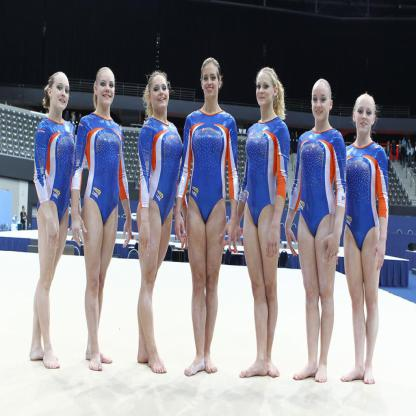face: (97, 75, 116, 106), (313, 87, 330, 121), (356, 102, 374, 134), (151, 80, 170, 108), (53, 78, 70, 109), (257, 78, 274, 106), (203, 69, 219, 98), (24, 207, 26, 210)
